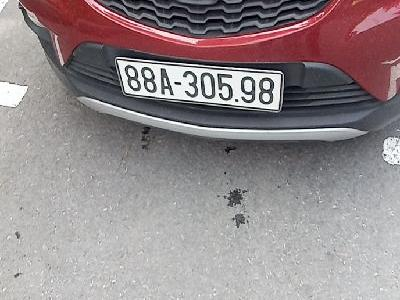car: (115, 57, 284, 115)
